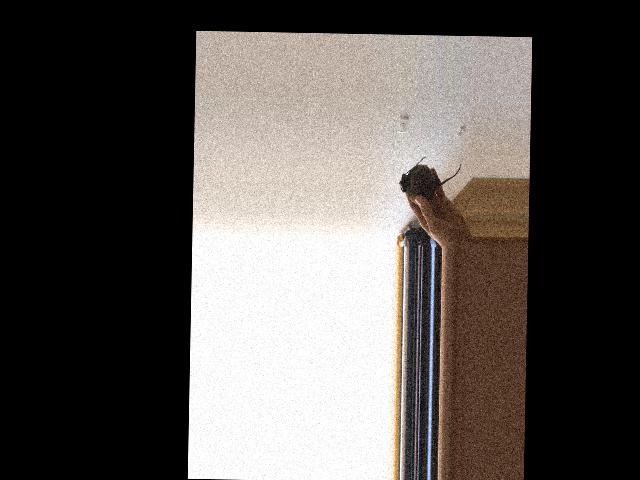beet: (398, 155, 461, 205)
